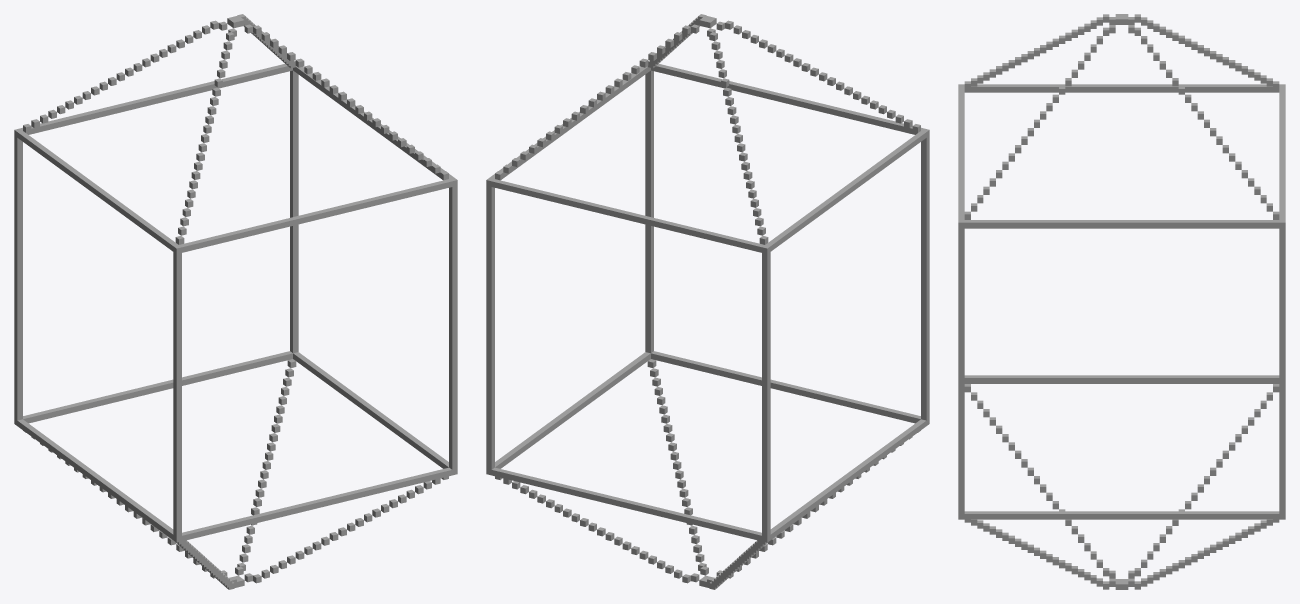
The model's file is hisigata_kata-2.obj.
The picture shows the model from 3 angles, left to right: view 1: azimuth 30°, elevation 25°; view 2: azimuth 150°, elevation 25°; view 3: azimuth 270°, elevation 25°; orthographic projection.
Size of the model in its own units: 5.2 by 10 by 5.2.
1 material, 1 textured.
